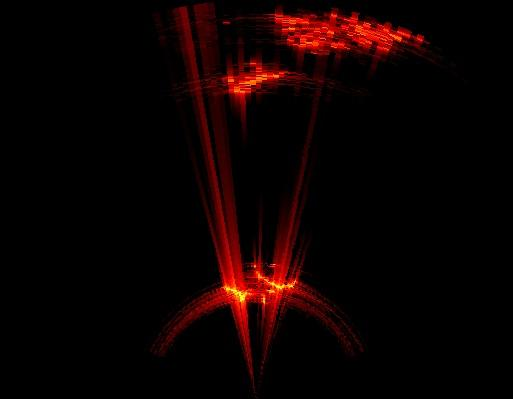shipwreck: (275, 11, 414, 49), (224, 272, 296, 304), (226, 65, 290, 95)
